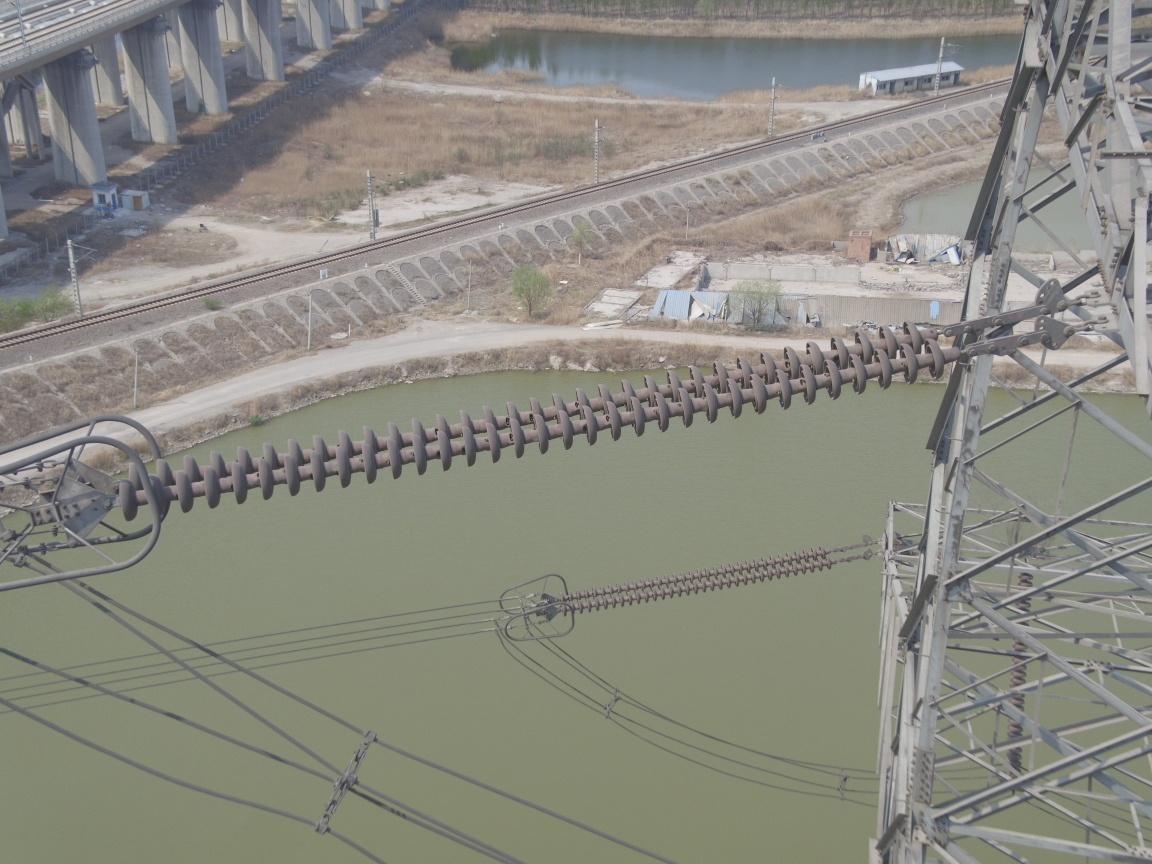insulator: (87, 313, 1022, 532), (554, 542, 849, 619)
